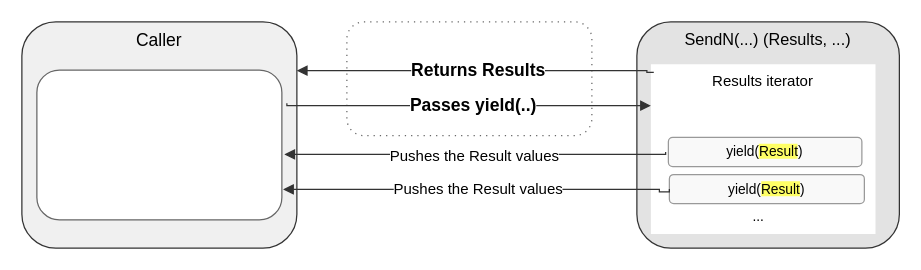
This 921x270 diagram has some shape labels left out. Here are the shapes that lost their labels. From the top down, the centre of each, then its label:
At (469,78): "Handshake".
At (159,144): "func yield(Result) bool".
